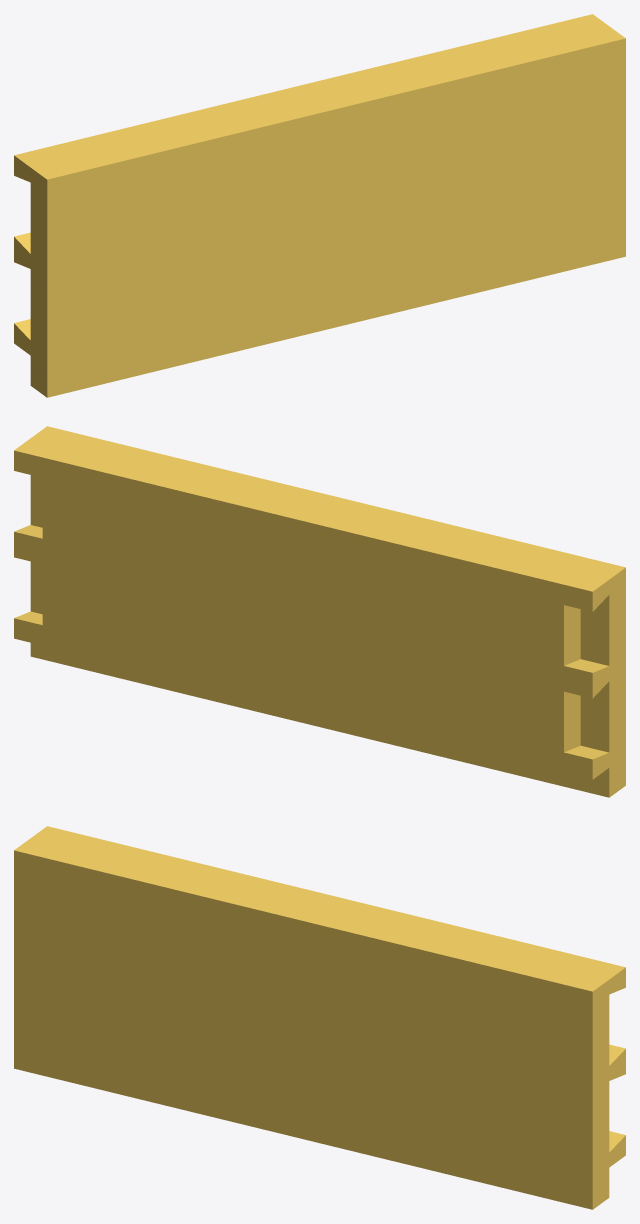
Rendered from original-19.obj.
The picture shows the model from 3 angles, top to bottom: view 1: azimuth 30°, elevation 25°; view 2: azimuth 150°, elevation 25°; view 3: azimuth 330°, elevation 25°; orthographic projection.
Parts seen in each view (by area): view 1: Group19/mesh23/mesh23-geometry#mesh23-geometry; view 2: Group19/mesh23/mesh23-geometry#mesh23-geometry; view 3: Group19/mesh23/mesh23-geometry#mesh23-geometry.
Boxes of the visible parts, x1,y1,x2,y2 form: Group19/mesh23/mesh23-geometry#mesh23-geometry: [14, 14, 625, 397]; Group19/mesh23/mesh23-geometry#mesh23-geometry: [14, 426, 625, 797]; Group19/mesh23/mesh23-geometry#mesh23-geometry: [14, 826, 625, 1209].
Size of the model in its own units: 0.1982 by 0.0714 by 0.0197.
